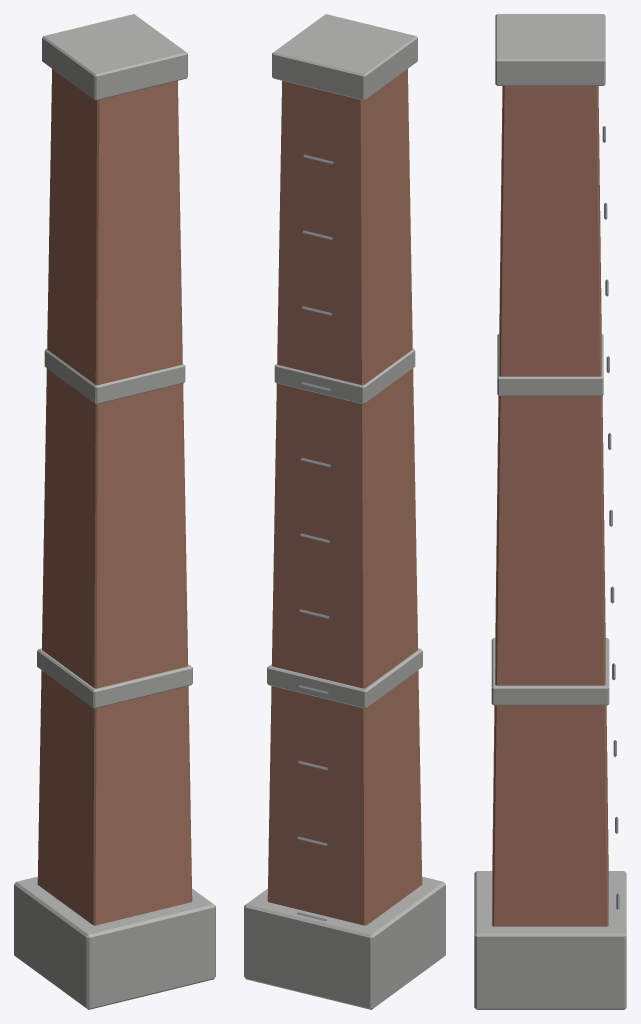
The model's file is mk_chimney.glb.
3 views of the same model, side by side, from view 1: azimuth 30°, elevation 25°; view 2: azimuth 150°, elevation 25°; view 3: azimuth 270°, elevation 25° (orthographic).
Parts seen in each view (by area): view 1: mk_chimney_mesh; view 2: mk_chimney_mesh; view 3: mk_chimney_mesh.
Boxes of the visible parts, x1,y1,x2,y2 form: mk_chimney_mesh: [14, 14, 215, 1009]; mk_chimney_mesh: [244, 14, 445, 1009]; mk_chimney_mesh: [474, 14, 626, 1009].
Size of the model in its own units: 1.8 by 12.28 by 1.8.
